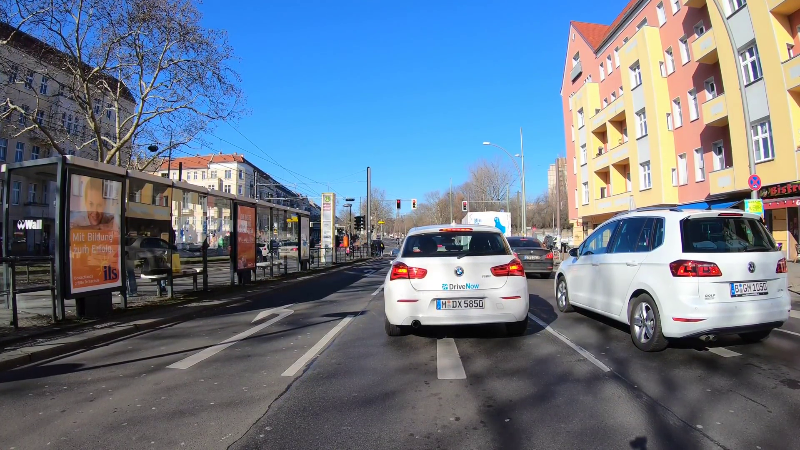Plate: (731, 275, 768, 297), (435, 296, 485, 310)
